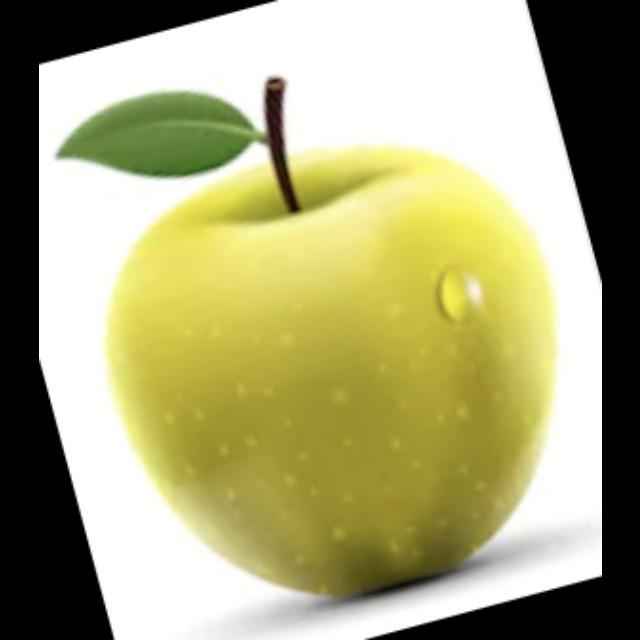Apel Segar: (91, 135, 571, 607)
